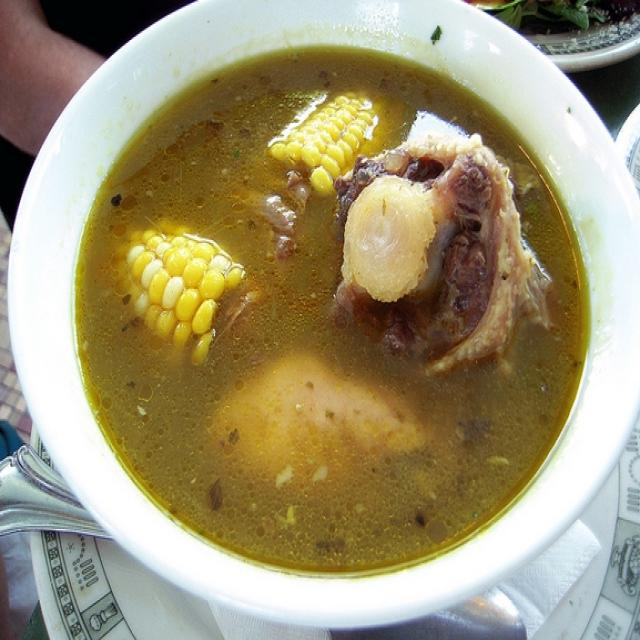汤锅炖物: (23, 15, 629, 621)
